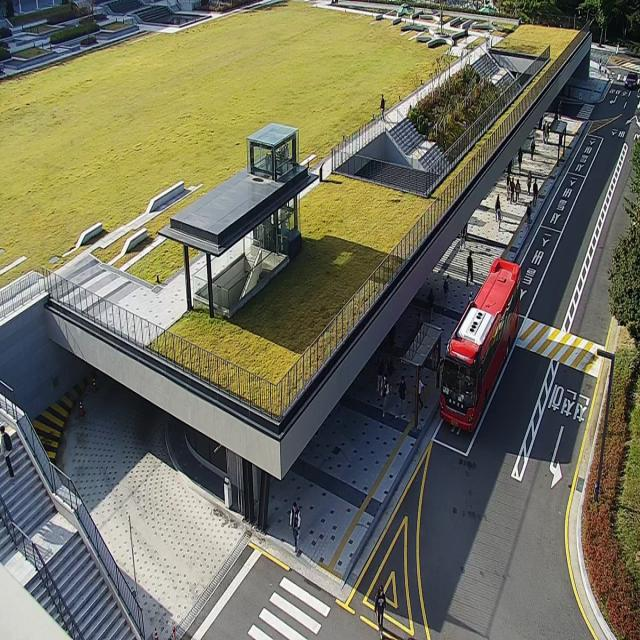queue: (417, 326, 443, 428)
